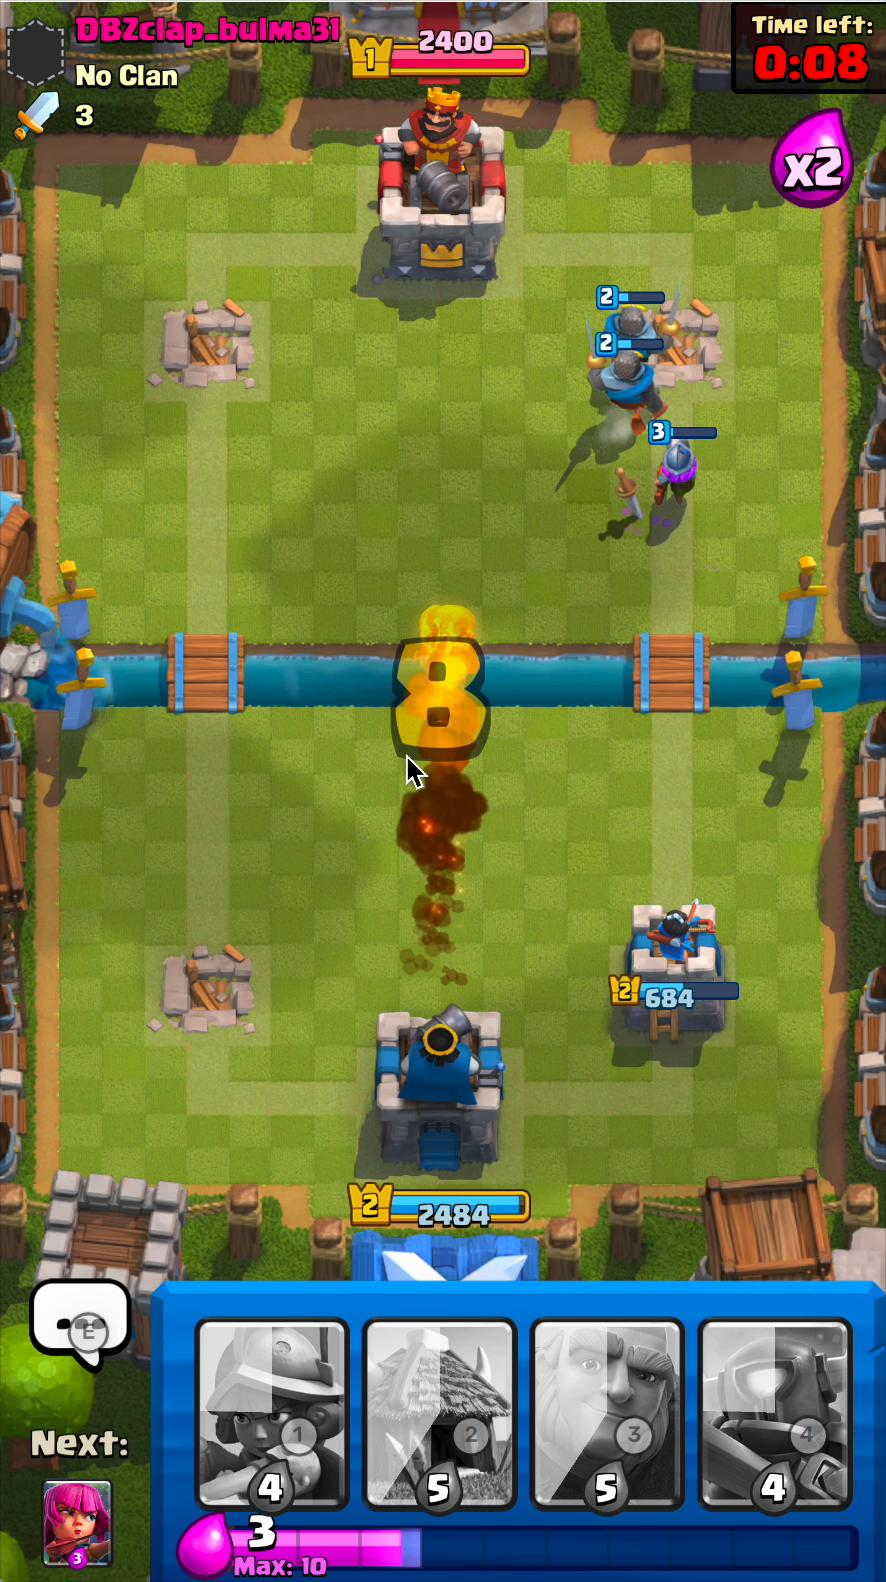chevalier: (585, 274, 696, 366), (578, 335, 672, 422)
mousquetaire: (640, 414, 709, 512)
